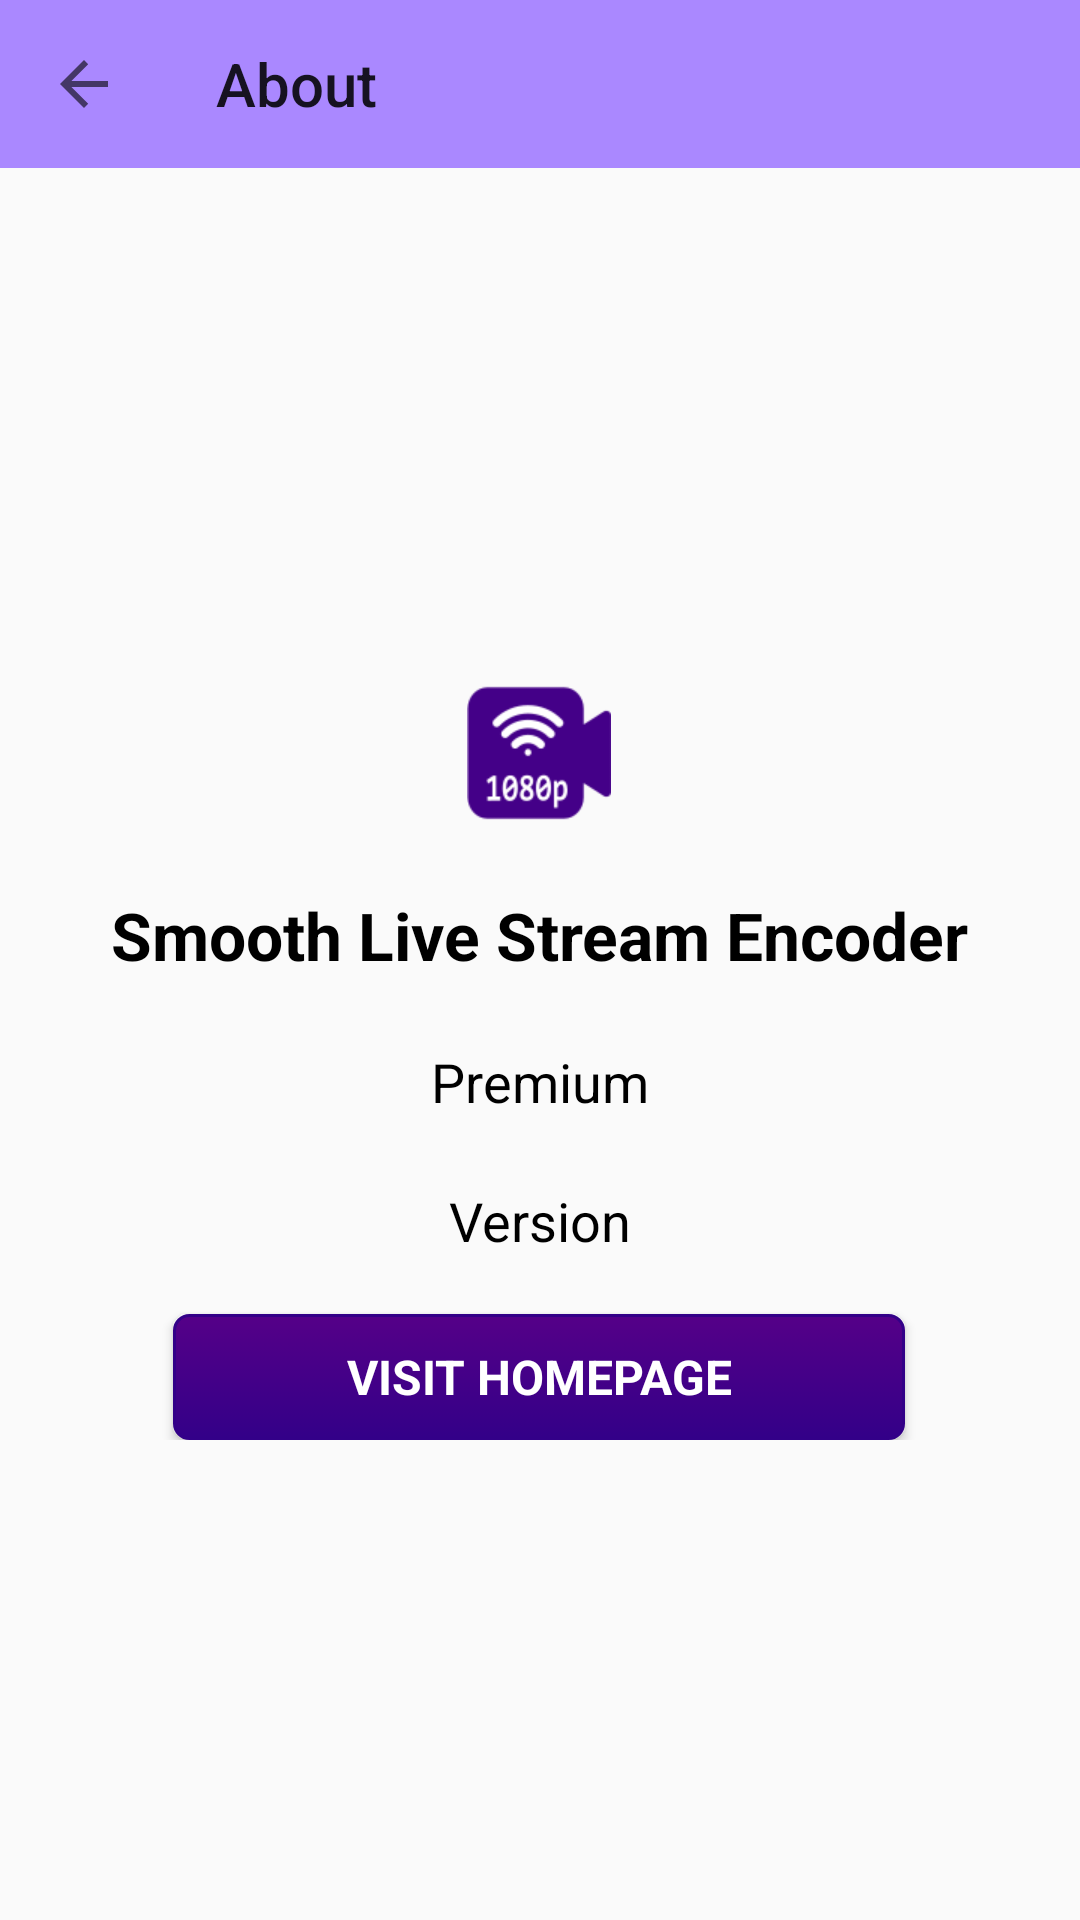

Named icons in this screenshot (1080x1920) and their bounding boxes, (x1, y1, x2, y2):
app: (467, 686, 611, 820)
